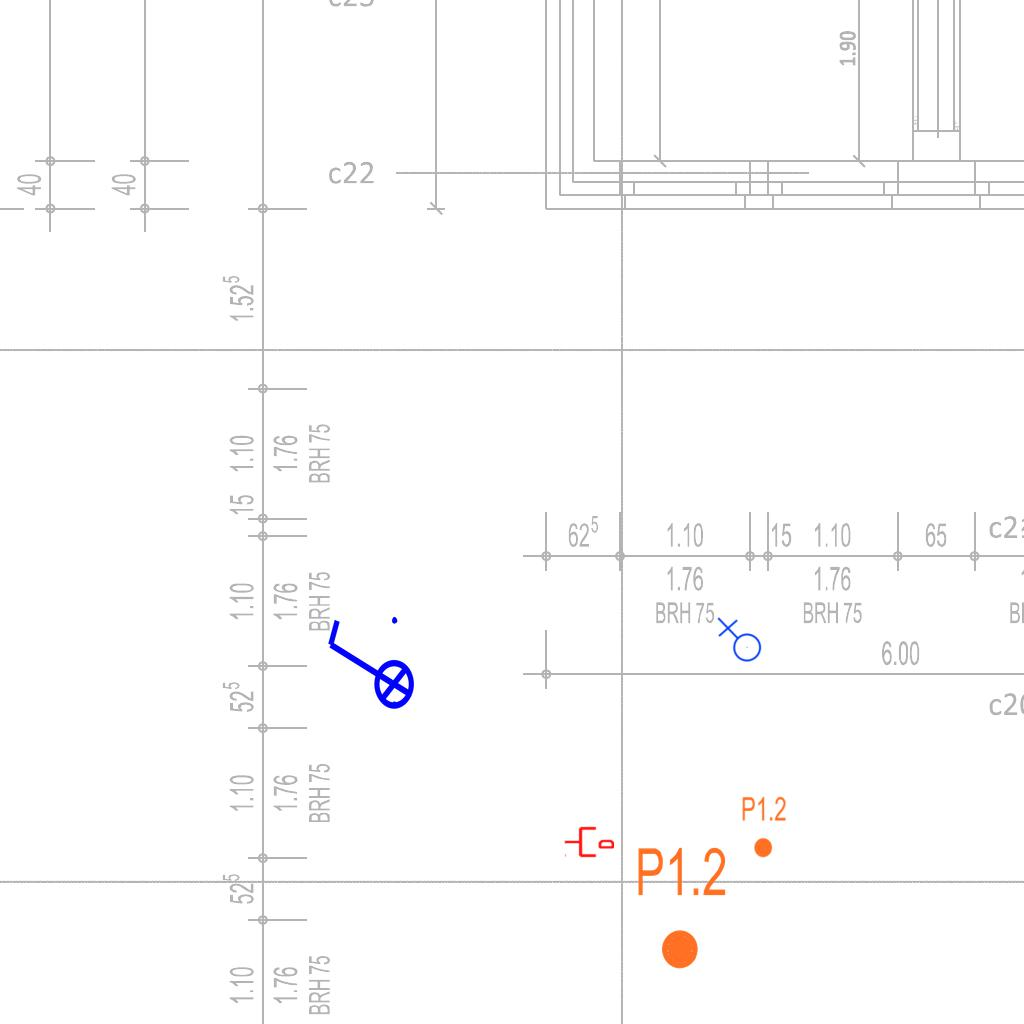Ausschalter_beleuchtet: (320, 611, 416, 723)
Datenanschluss_einfach: (564, 825, 614, 859)
Downlight_LED_Einbauleuchten_Flur: (635, 844, 728, 972), (741, 795, 787, 859)
Elektroanschluss_allgemein_230V_Geraeteanschlussdose_230V: (715, 617, 762, 666)
